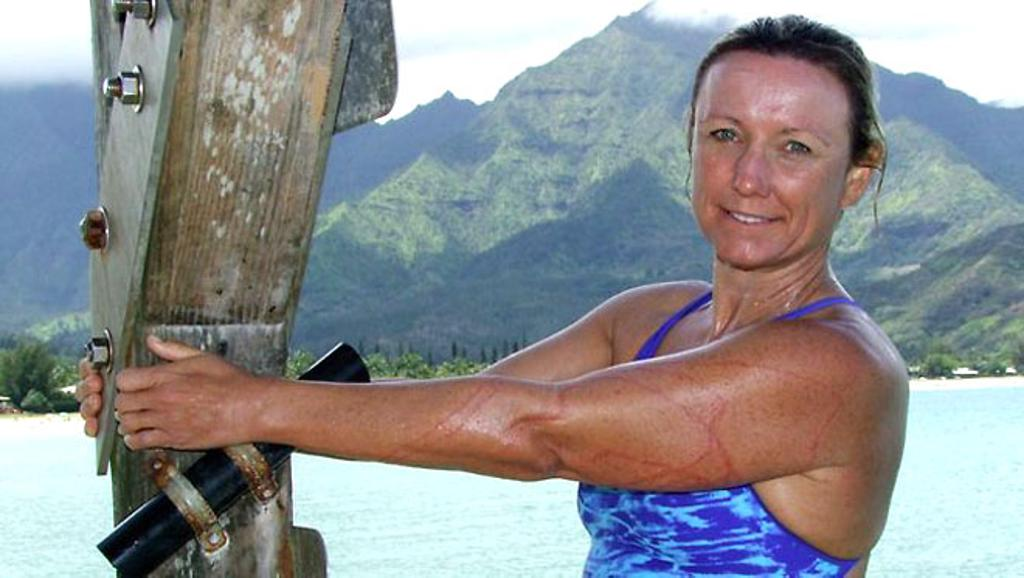face: (700, 88, 842, 260)
